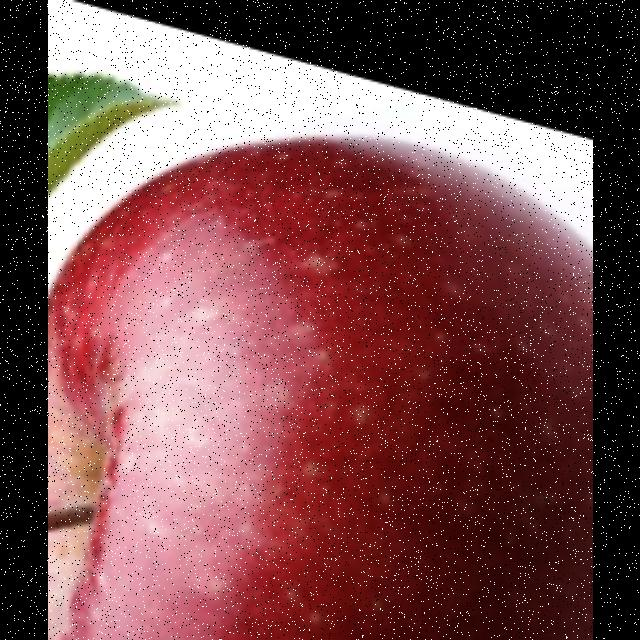Apel Segar: (48, 31, 592, 640)
